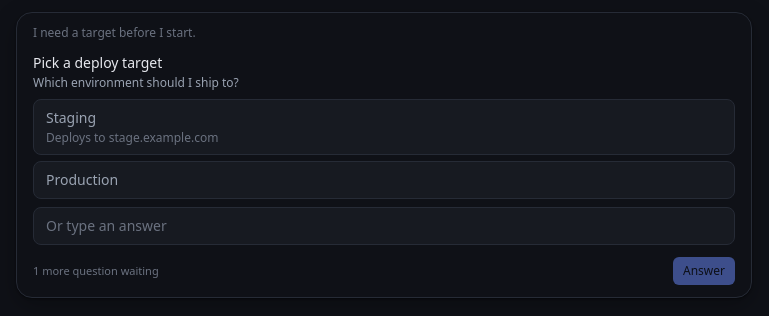
the question panel › shows one request at a time and answers them in order
Expected: the text "I need a target before I start." is shown, top-left (33, 24), bottom-right (196, 41)
Expected: the text "and then this" is not shown
Click the radio button labelled "Staging Deploys to stage.example.com" at (71, 118), box top-left (33, 99), bottom-right (735, 155)
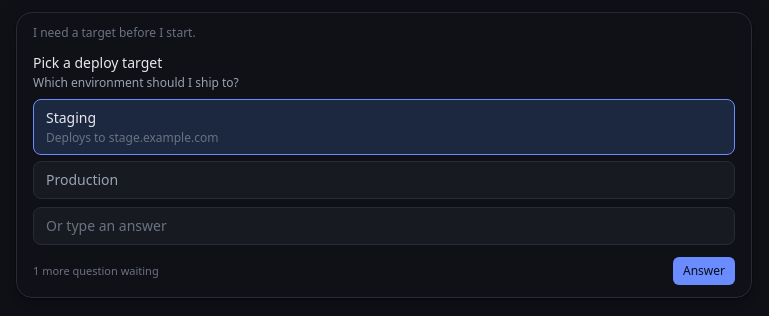
Click the button "Answer" at (704, 271), box top-left (673, 257), bottom-right (735, 285)
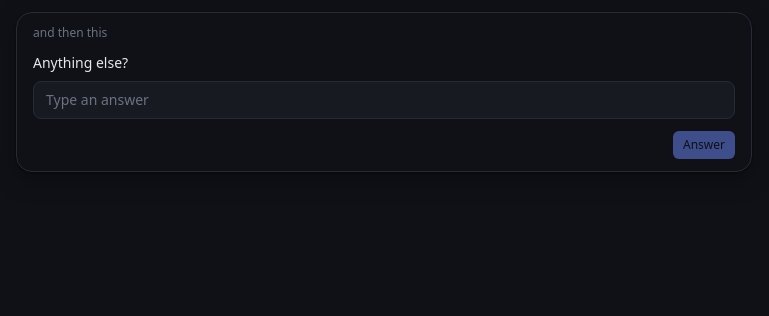
Now the text "and then this" is shown, box top-left (33, 24), bottom-right (107, 41)
